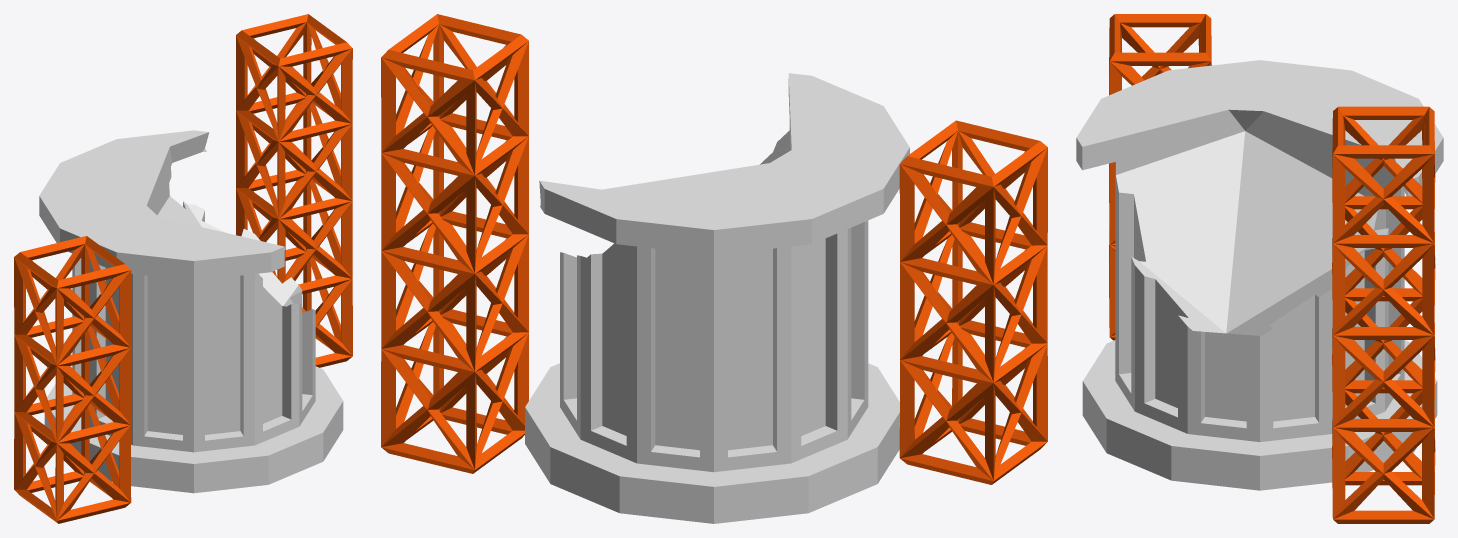
The model's file is Sokkel.glb.
3 views of the same model, side by side, from view 1: azimuth 30°, elevation 25°; view 2: azimuth 150°, elevation 25°; view 3: azimuth 270°, elevation 25° (orthographic). The views are drawn at different scales.
Parts seen in each view (by area): view 1: Cylinder.004, Cube.028, Cube.027; view 2: Cylinder.004, Cube.028, Cube.027; view 3: Cylinder.004, Cube.028, Cube.027.
Part boxes in pixels (x1=…): Cylinder.004: x1=39, y1=130, x2=343, y2=493; Cube.028: x1=236, y1=14, x2=352, y2=367; Cube.027: x1=14, y1=236, x2=131, y2=523; Cylinder.004: x1=525, y1=73, x2=909, y2=523; Cube.028: x1=381, y1=14, x2=528, y2=473; Cube.027: x1=899, y1=120, x2=1047, y2=484; Cylinder.004: x1=1076, y1=60, x2=1443, y2=490; Cube.028: x1=1332, y1=106, x2=1435, y2=523; Cube.027: x1=1109, y1=14, x2=1211, y2=340.
Bounding box in the file's own units: 1.12 × 0.8747 × 0.7673.
